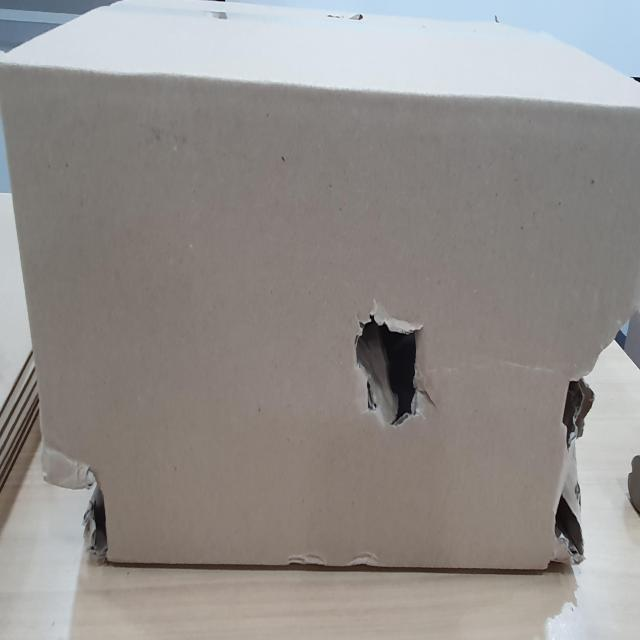damaged: (354, 316, 434, 427), (545, 370, 588, 556), (87, 459, 119, 556)
